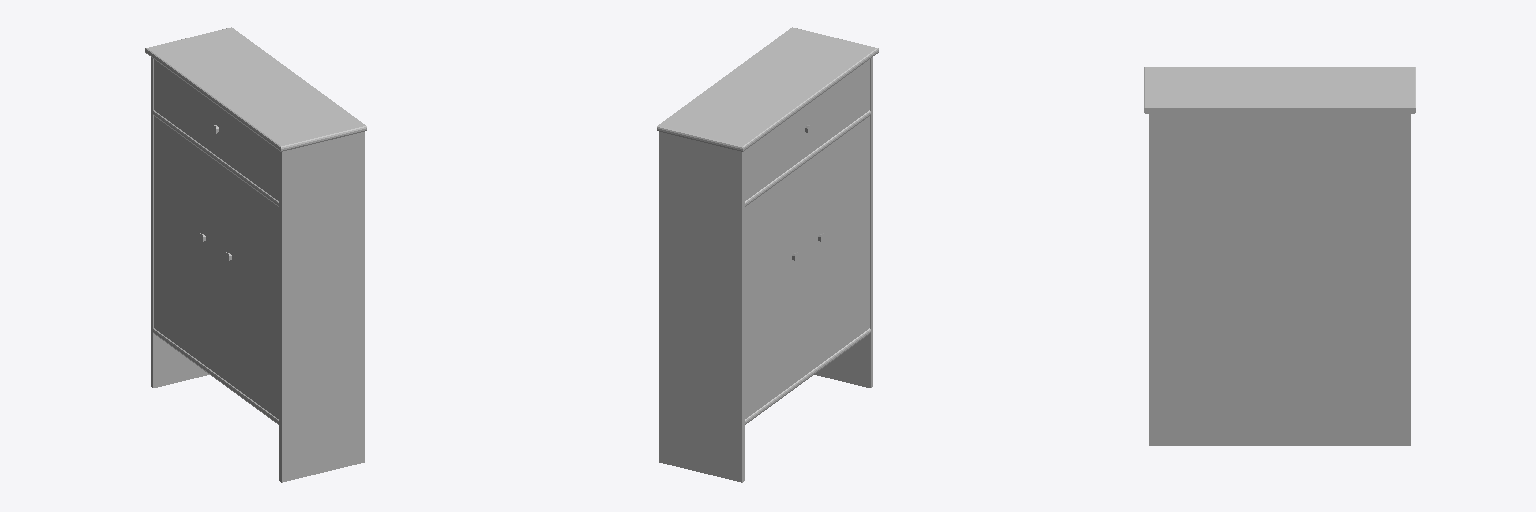
The model's file is Cabinet.obj.
3 views of the same model, side by side, from view 1: azimuth 30°, elevation 25°; view 2: azimuth 150°, elevation 25°; view 3: azimuth 270°, elevation 25° (orthographic).
Visible parts, largest first — view 1: 7-10.Cupboard_Cupboard; view 2: 7-10.Cupboard_Cupboard; view 3: 7-10.Cupboard_Cupboard.
Boxes of the visible parts, x1,y1,x2,y2 form: 7-10.Cupboard_Cupboard: [145, 27, 366, 482]; 7-10.Cupboard_Cupboard: [657, 27, 878, 482]; 7-10.Cupboard_Cupboard: [1144, 67, 1415, 445].
Size of the model in its own units: 1.24 by 4.66 by 3.41.